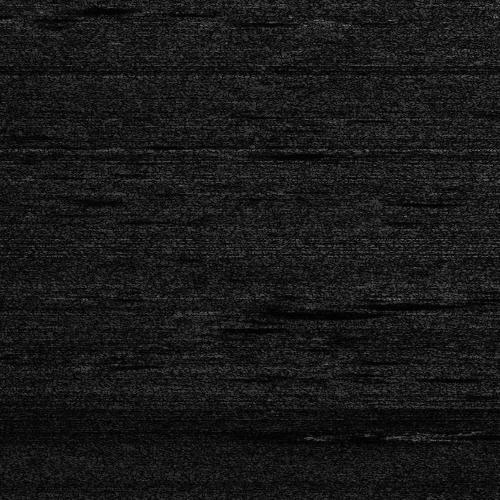object: (204, 306, 297, 317), (371, 433, 454, 438), (18, 4, 71, 11), (50, 196, 103, 203), (344, 201, 417, 206), (208, 150, 271, 155), (186, 18, 239, 23), (186, 323, 227, 328), (490, 55, 500, 60)
shadow: (251, 306, 392, 317), (77, 196, 151, 203), (45, 4, 118, 11), (240, 150, 311, 155), (213, 18, 283, 23), (207, 323, 274, 328), (413, 433, 476, 438), (380, 201, 401, 206)
